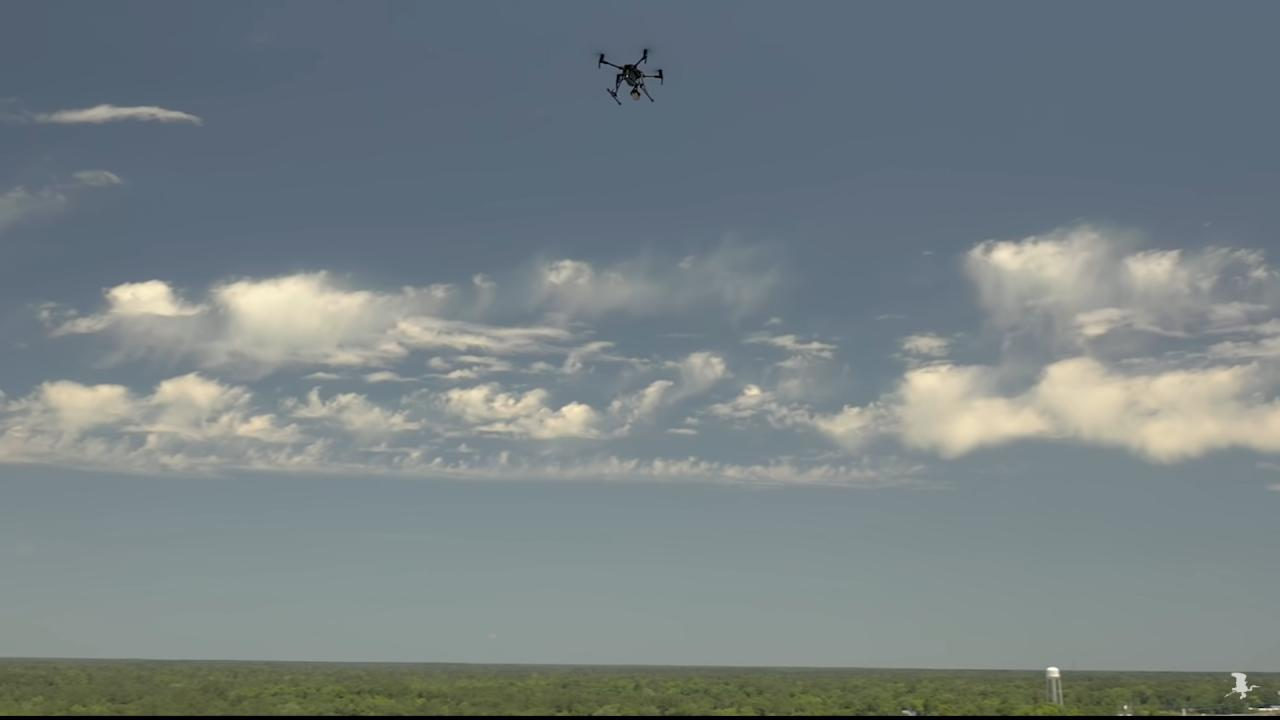Drone: (581, 38, 677, 114)
